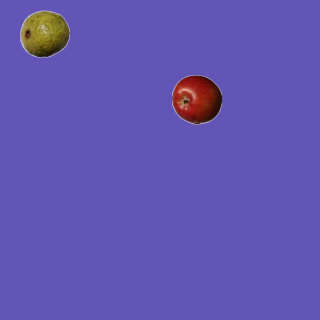Apple Braeburn: (171, 74, 221, 124)
Guava: (19, 8, 69, 58)
